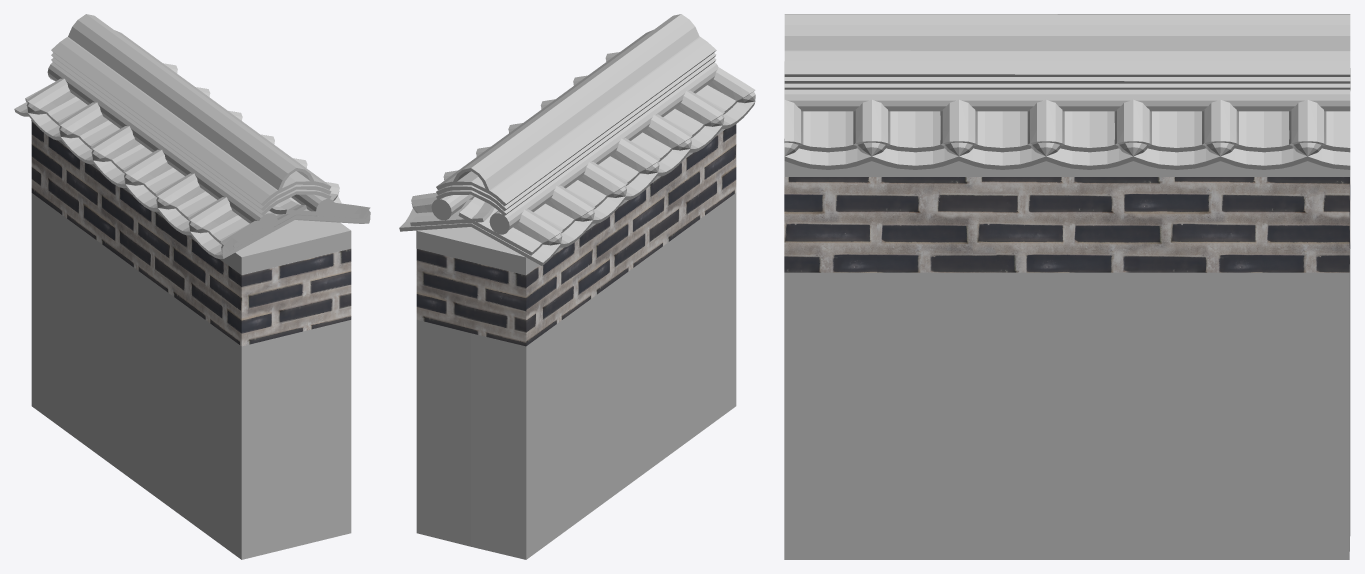
File: SM_StraightStronewall_2.fbx
The picture shows the model from 3 angles, left to right: view 1: azimuth 30°, elevation 25°; view 2: azimuth 150°, elevation 25°; view 3: azimuth 270°, elevation 25°; orthographic projection. The views are drawn at different scales.
Visible parts, largest first — view 1: SM_StraightStronewall_2; view 2: SM_StraightStronewall_2; view 3: SM_StraightStronewall_2.
Boxes of the visible parts, x1,y1,x2,y2 form: SM_StraightStronewall_2: [14, 14, 370, 559]; SM_StraightStronewall_2: [399, 14, 755, 559]; SM_StraightStronewall_2: [784, 14, 1350, 559].
Size of the model in its own units: 85.78 by 210 by 209.
